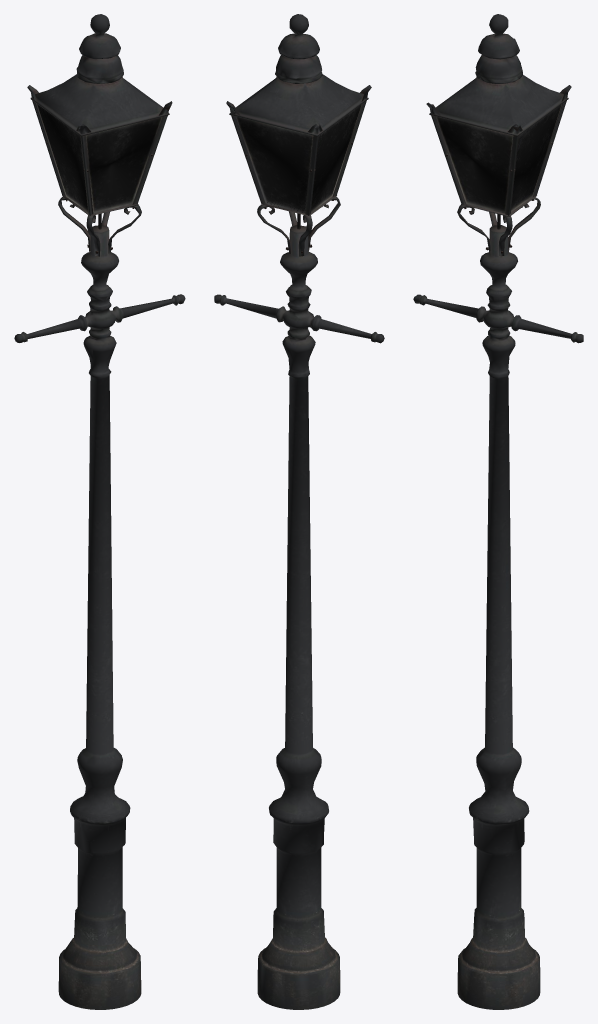
Rendered from street_lamp_01.glb.
3 renders of one model, left to right at view 1: azimuth 30°, elevation 25°; view 2: azimuth 150°, elevation 25°; view 3: azimuth 330°, elevation 25°, orthographic.
Visible parts, largest first — view 1: street_lamp_01; view 2: street_lamp_01; view 3: street_lamp_01.
Part boxes in pixels (x1,y1,x2,y2): street_lamp_01: (14, 14, 185, 1009); street_lamp_01: (214, 14, 384, 1009); street_lamp_01: (413, 14, 583, 1009).
Size of the model in its own units: 0.7025 by 3.87 by 0.3845.
2 materials, 2 textured.
